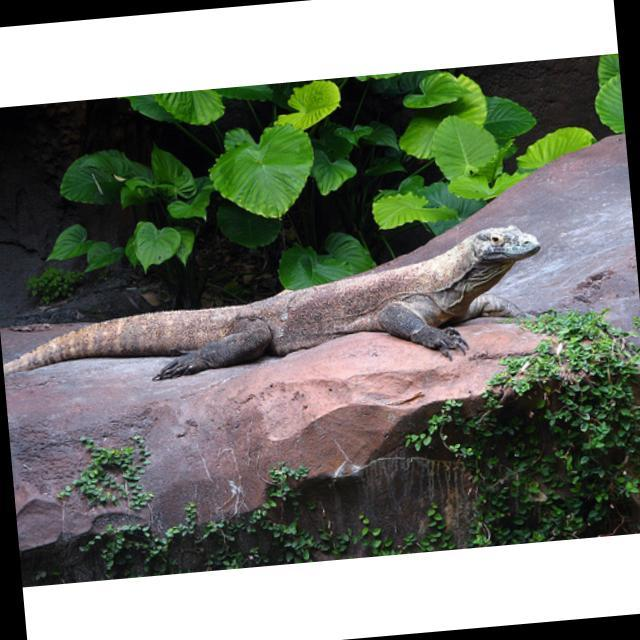KomodoDragon: (0, 218, 549, 401)
